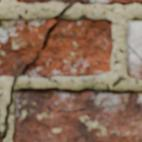brick: (13, 88, 141, 141), (126, 20, 141, 79), (17, 0, 141, 3)
broken_brick: (25, 17, 113, 78), (0, 17, 53, 77)
crack: (0, 2, 74, 139), (128, 45, 141, 61), (102, 1, 131, 6), (79, 1, 94, 4), (27, 19, 41, 21), (2, 19, 9, 22)
